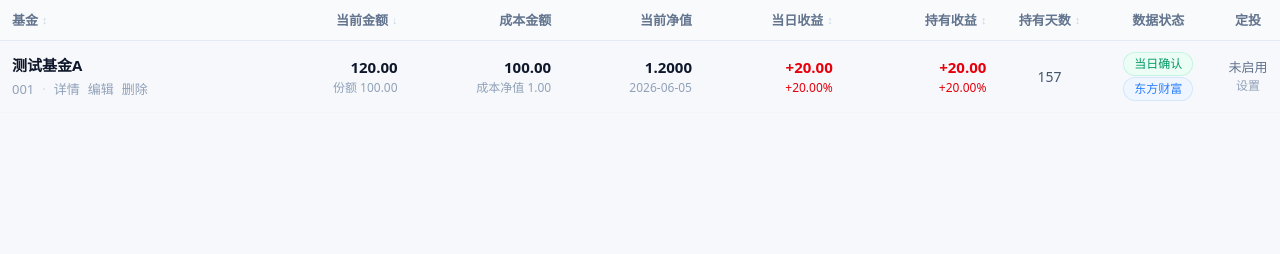
Test: portfolio components › opens DCA settings from the table
Click the button "设置": (1248, 86) [1236,78,1260,94]
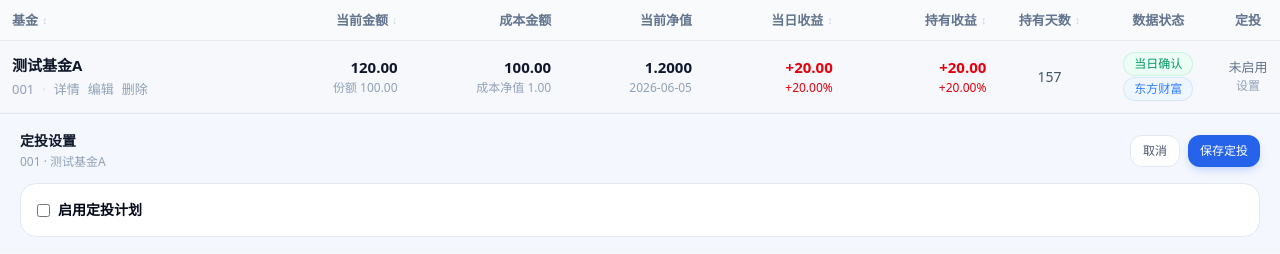
Now the text "定投设置" is shown, box [20,131,76,150]
Now the text "启用定投计划" is shown, box [37,200,142,219]
